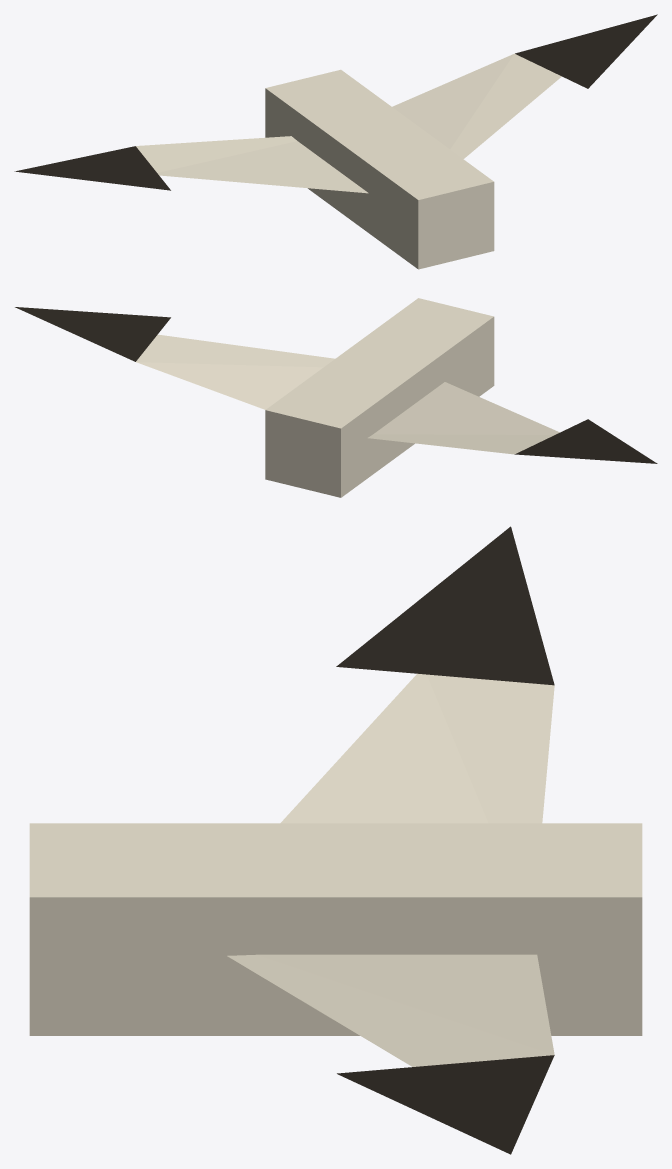
The model's file is animal-bird.glb.
3 views of the same model, one above another, from view 1: azimuth 30°, elevation 25°; view 2: azimuth 150°, elevation 25°; view 3: azimuth 270°, elevation 25° (orthographic). The views are drawn at different scales.
Parts seen in each view (by area): view 1: Body, WingR, WingL; view 2: Body, WingR, WingL; view 3: Body, WingL, WingR.
Boxes of the visible parts, left/top/right/bottom form: Body: left=265, top=69, right=494, bottom=269; WingR: left=392, top=14, right=657, bottom=158; WingL: left=14, top=136, right=368, bottom=193; Body: left=265, top=298, right=494, bottom=497; WingR: left=15, top=307, right=334, bottom=409; WingL: left=368, top=382, right=657, bottom=463; Body: left=29, top=823, right=642, bottom=1035; WingL: left=280, top=526, right=554, bottom=823; WingR: left=227, top=954, right=554, bottom=1154.
Size of the model in its own units: 0.68 by 0.08 by 0.28.
1 material, 1 textured.
